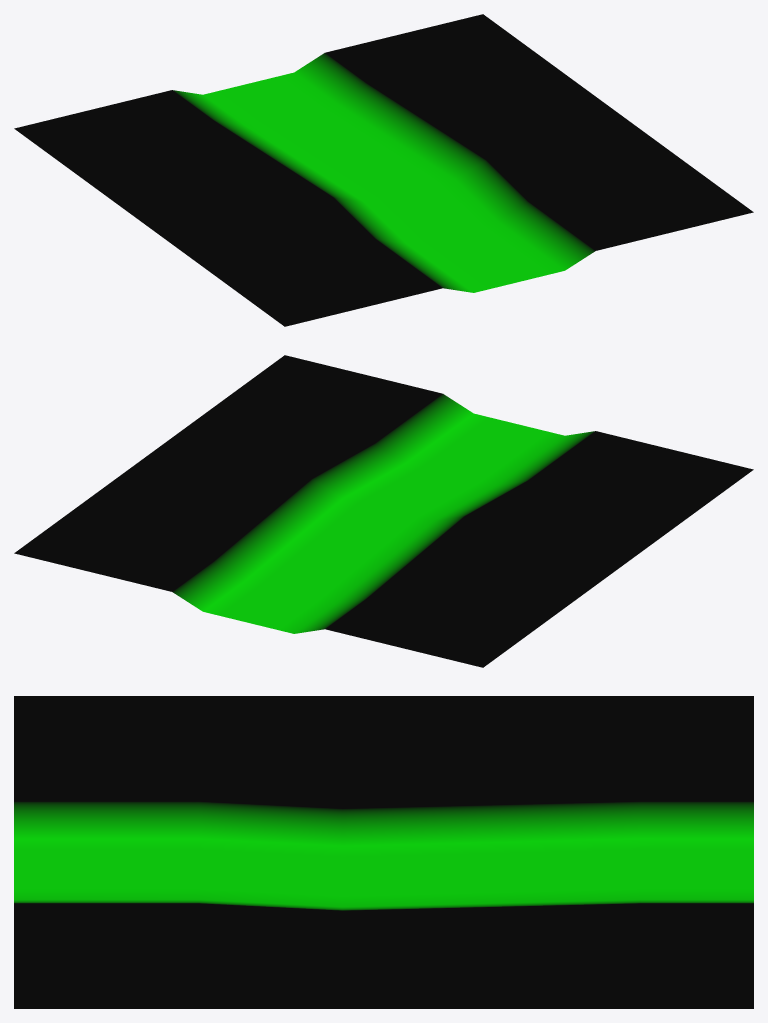
Rendered from SM_Ground_8m_Pathway.FBX.
3 views of the same model, one above another, from view 1: azimuth 30°, elevation 25°; view 2: azimuth 150°, elevation 25°; view 3: azimuth 270°, elevation 25° (orthographic). The views are drawn at different scales.
Parts seen in each view (by area): view 1: SM_Ground_8m_Pathway; view 2: SM_Ground_8m_Pathway; view 3: SM_Ground_8m_Pathway.
Part boxes in pixels (x1=…): SM_Ground_8m_Pathway: x1=14, y1=14, x2=753, y2=326; SM_Ground_8m_Pathway: x1=14, y1=355, x2=753, y2=667; SM_Ground_8m_Pathway: x1=14, y1=696, x2=753, y2=1008.
Size of the model in its own units: 800 by 800 by 20.
